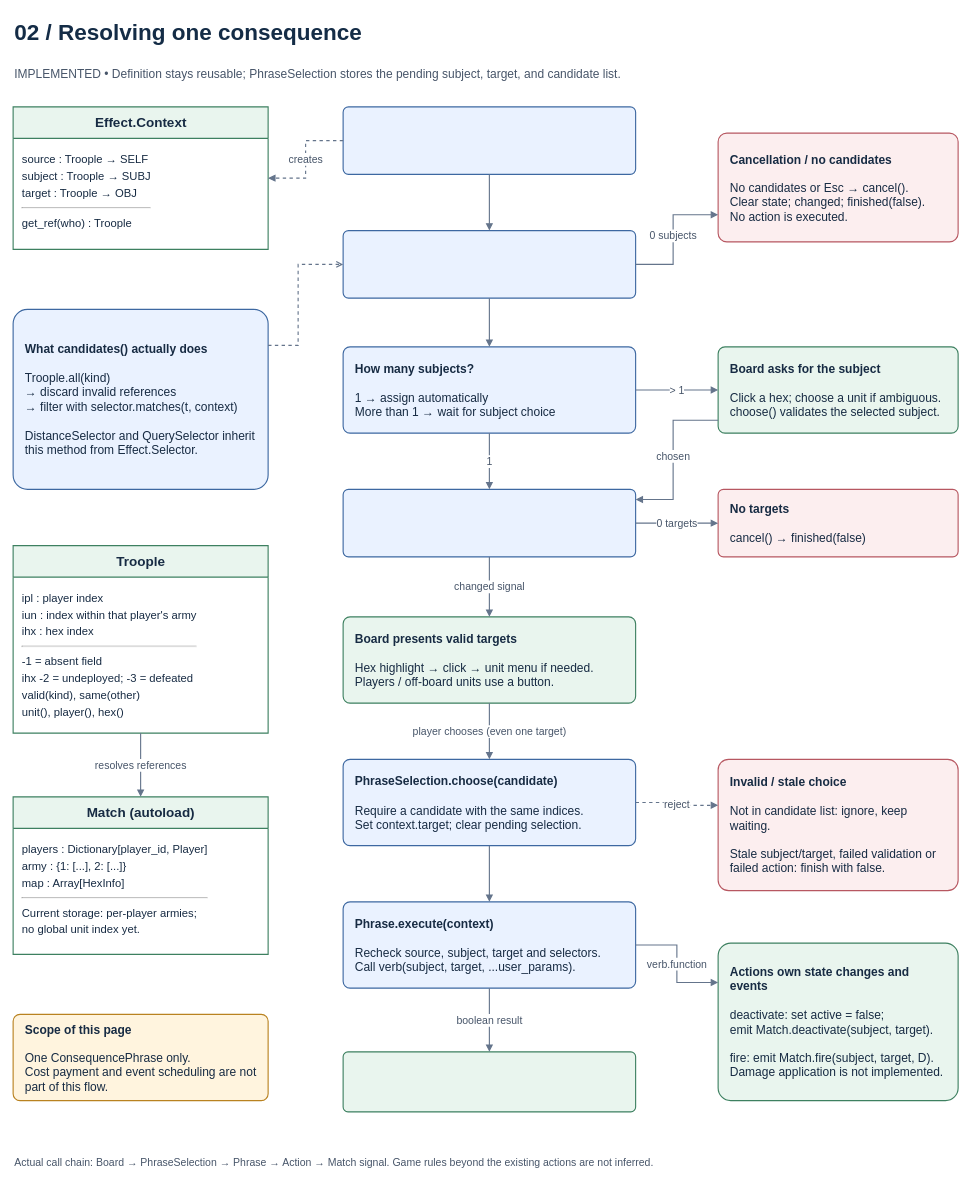
Some shapes in this 972 by 1188 pixel diagram are drawn without their labels. The shapes that lost their labels are listed below. From the top down, each one's centre as x and y in pixels, then its label:
At [489,140]: "Board.select_phrase(phrase, source) Calls PhraseSelection.begin(phrase, source).".
At [489,264]: "Find subject candidates phrase.subject.candidates(subject_kind, context)".
At [489,522]: "Find target candidates phrase.target.candidates(target_kind, context)".
At [489,1081]: "Completion selection.finished(action_result)".
